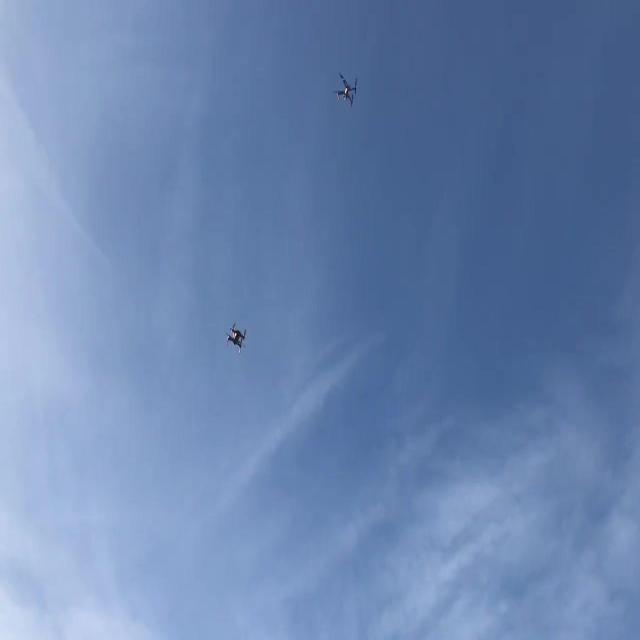drone: (332, 69, 358, 109), (224, 322, 248, 354)
